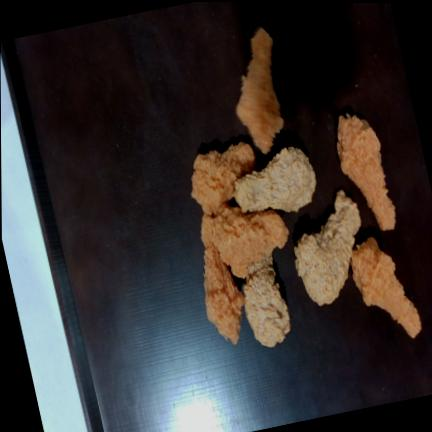chicken: (294, 190, 361, 305), (351, 237, 421, 338), (337, 114, 394, 227), (201, 205, 289, 278), (236, 27, 284, 154), (234, 146, 316, 212), (192, 142, 255, 215), (243, 257, 290, 347), (204, 243, 243, 344)
